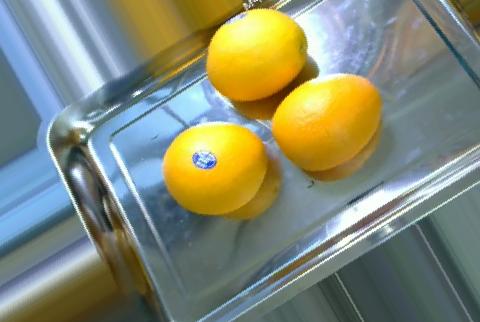Orange: (273, 73, 381, 172), (161, 121, 268, 214), (205, 8, 308, 101)
